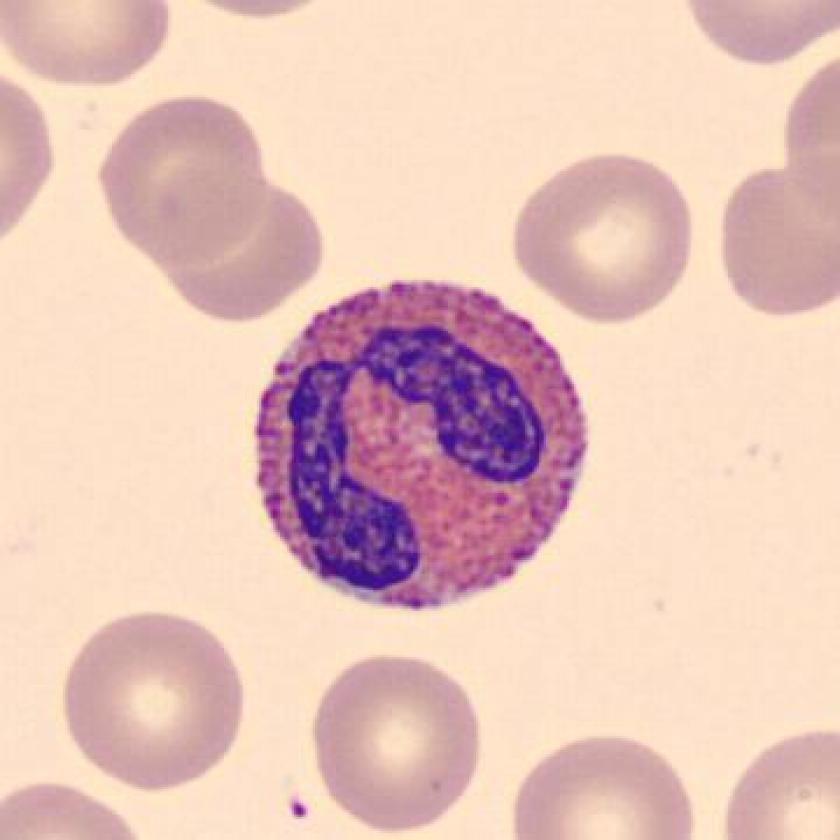eosinophil: (241, 267, 608, 628)
